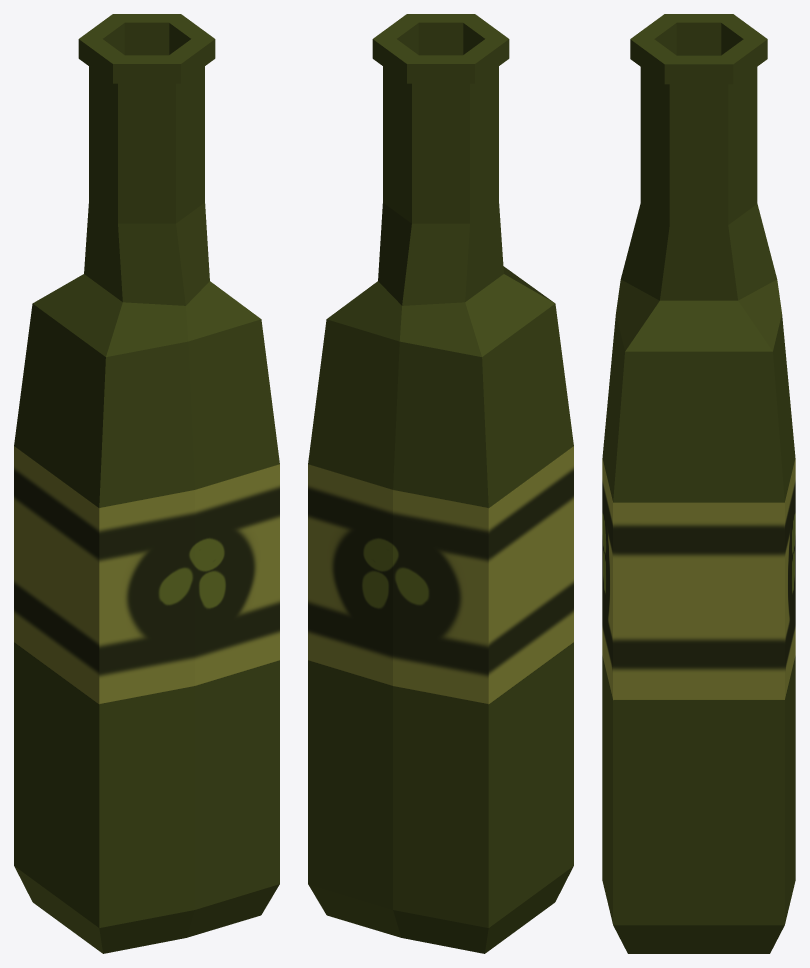
The model's file is olive_oil.fbx.
The picture shows the model from 3 angles, left to right: view 1: azimuth 30°, elevation 25°; view 2: azimuth 150°, elevation 25°; view 3: azimuth 270°, elevation 25°; orthographic projection.
Parts seen in each view (by area): view 1: olive_oil; view 2: olive_oil; view 3: olive_oil.
Part boxes in pixels (left/top/right/bottom): olive_oil: left=14, top=14, right=279, bottom=953; olive_oil: left=308, top=14, right=573, bottom=953; olive_oil: left=602, top=14, right=795, bottom=953.
Size of the model in its own units: 34.24 by 158 by 31.46.
